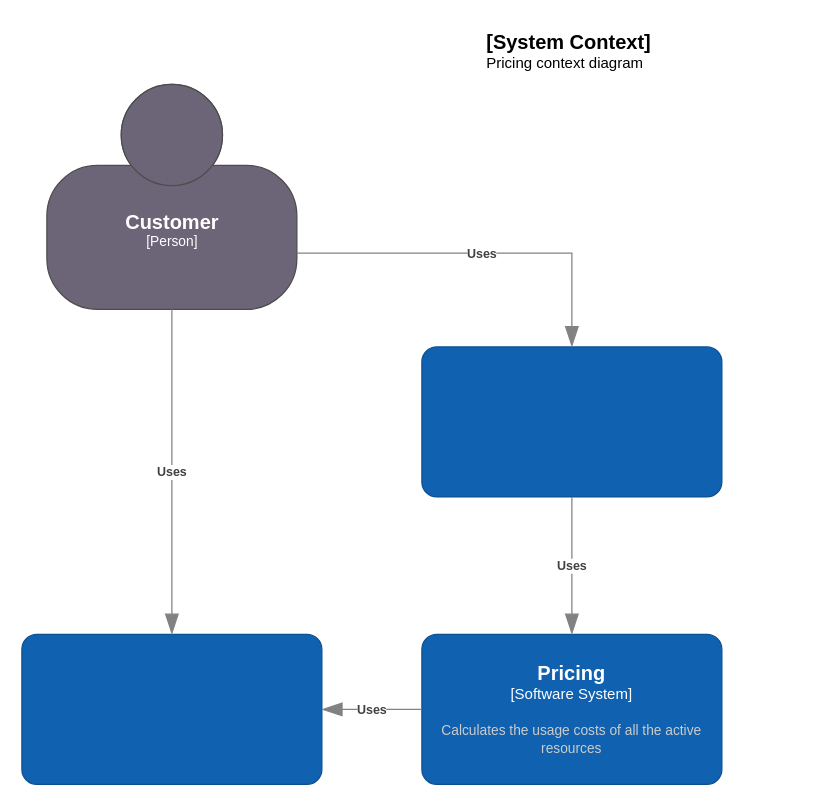
Some shapes in this 831 by 806 pixel diagram are drawn without their labels. The shapes that lost their labels are listed below. From the top down, each one's box as (x1, y1, x2, y2) in pixels, then its label:
(421, 346, 722, 497): Reporting [Software System] Generates charging reports and invoices
(21, 633, 322, 784): Cloud Platform [Software System] Manages all the cloud resources
